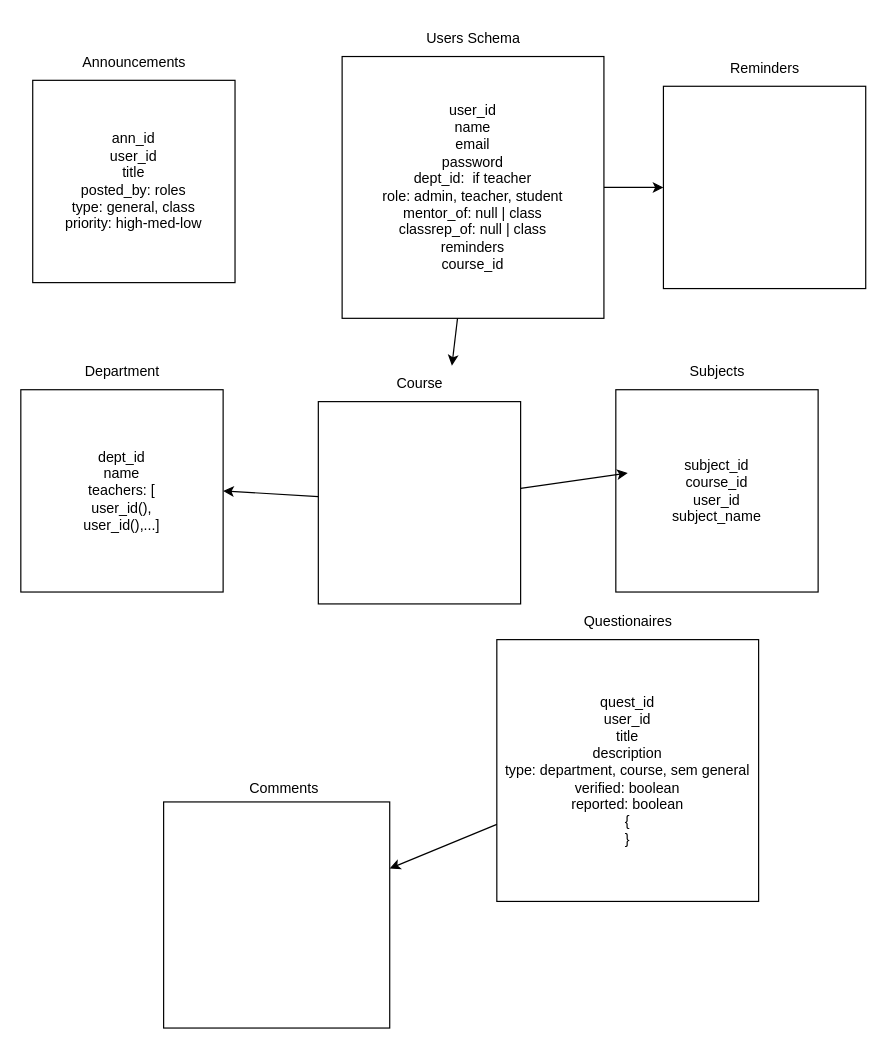
Image size: 887x1052. Some labels were removed from this diagram. Each missing label, with the centre of its shape:
course_id name semesters: { sem_1: { subjects: { subject_id } } }: point (419, 502)
rem_id title description priority: high-med-low: point (764, 187)
user_id text verified_by: user_id(): point (276, 914)
